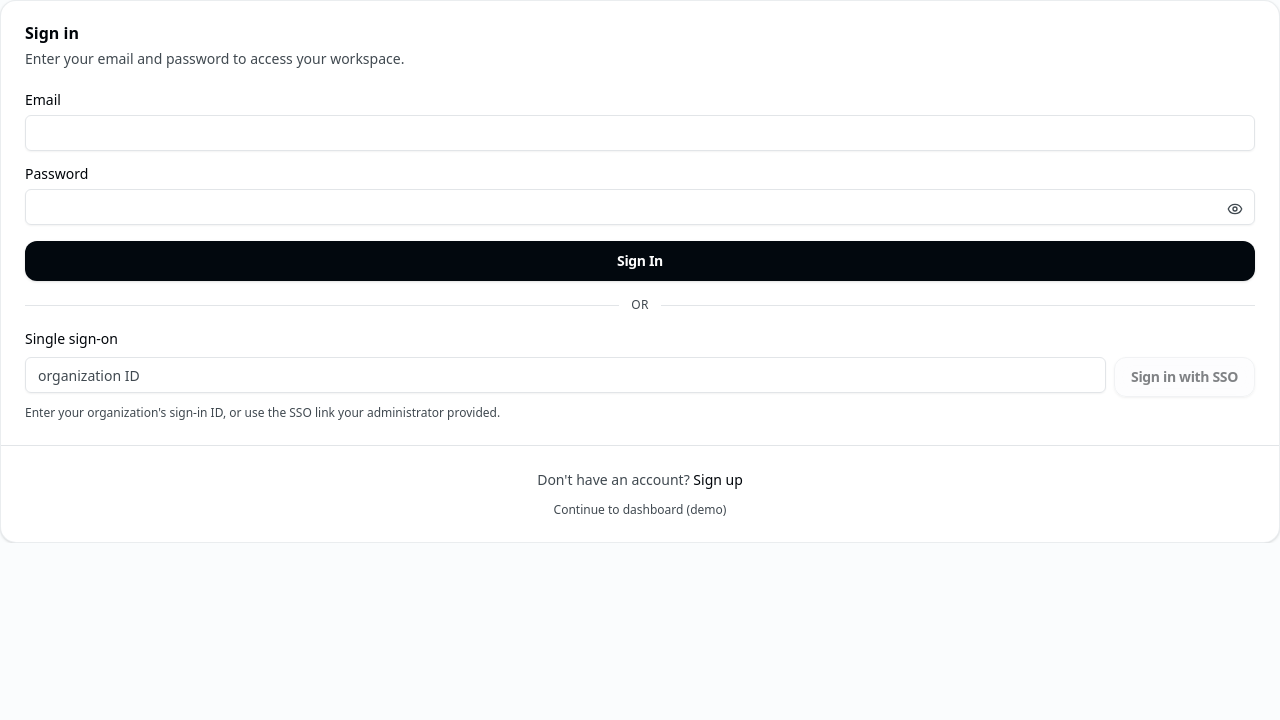
Scenario: SignInForm — SSO › steers an enforce-SSO 403 to the SSO message instead of a generic error
Type "newhire@acme.com" into the field labelled "Email" at (640, 133), box x1=25 y1=115 x2=1255 y2=151
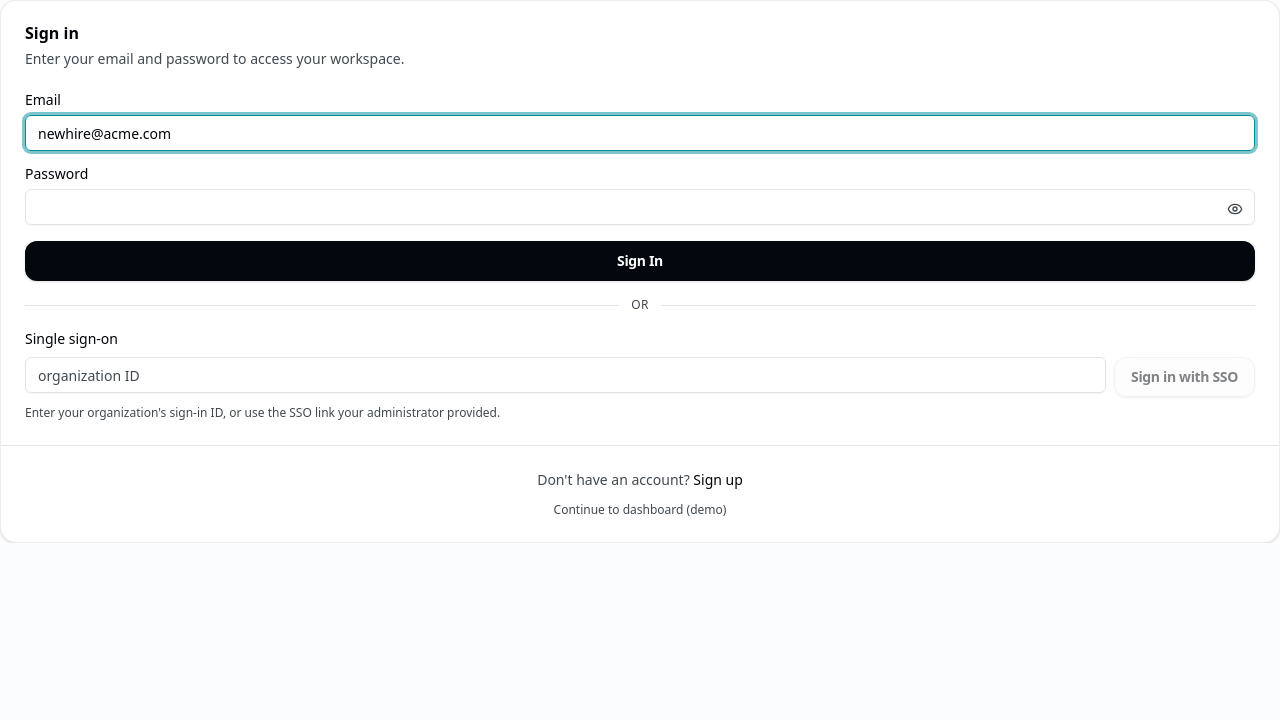
Type "hunter2" into the password field labelled "Password" at (640, 207), box x1=25 y1=189 x2=1255 y2=225
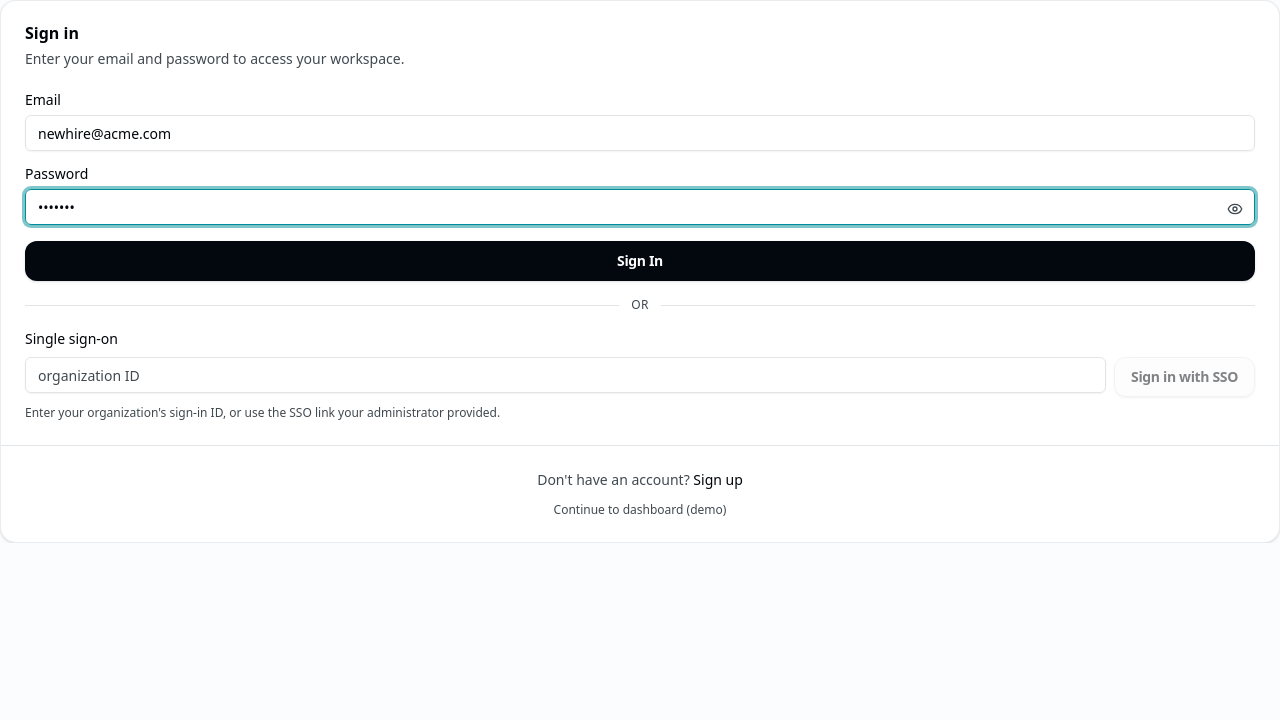
Click the button "Sign In" at (640, 261), box x1=25 y1=241 x2=1255 y2=281
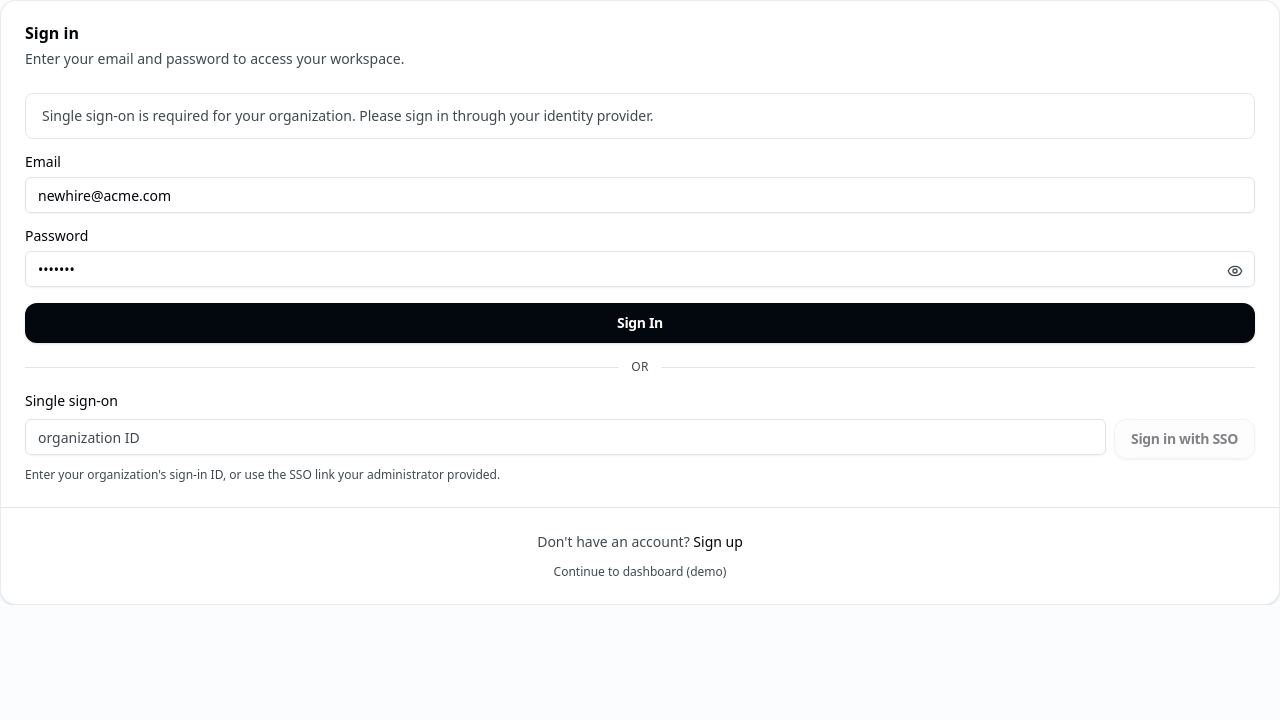
Result: the text "Single sign-on is required for your organization" is shown at x1=42 y1=106 x2=654 y2=125
